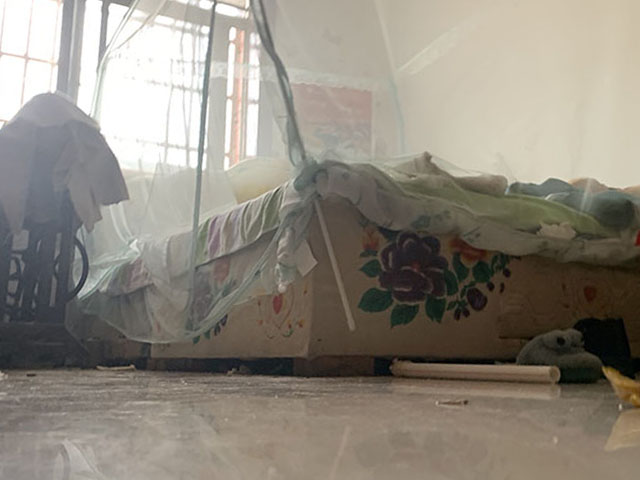bed: (82, 158, 636, 376)
slippers: (493, 326, 605, 383)
